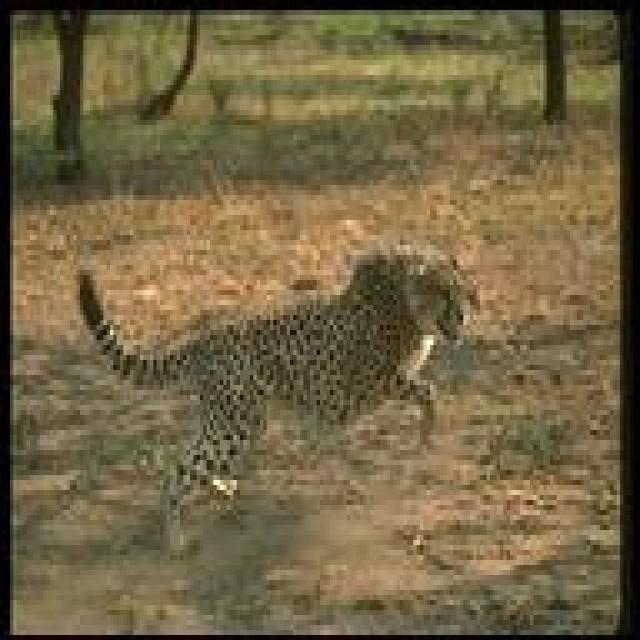Leopard: (75, 232, 478, 520)
